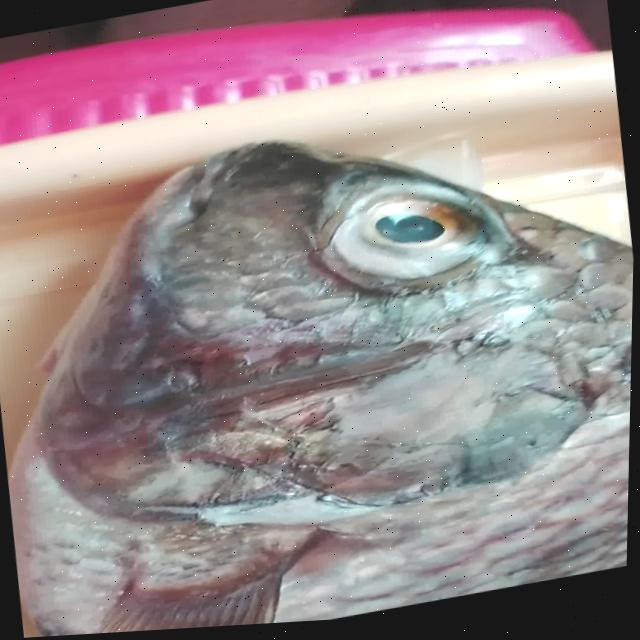Fresh: (288, 152, 544, 322)
